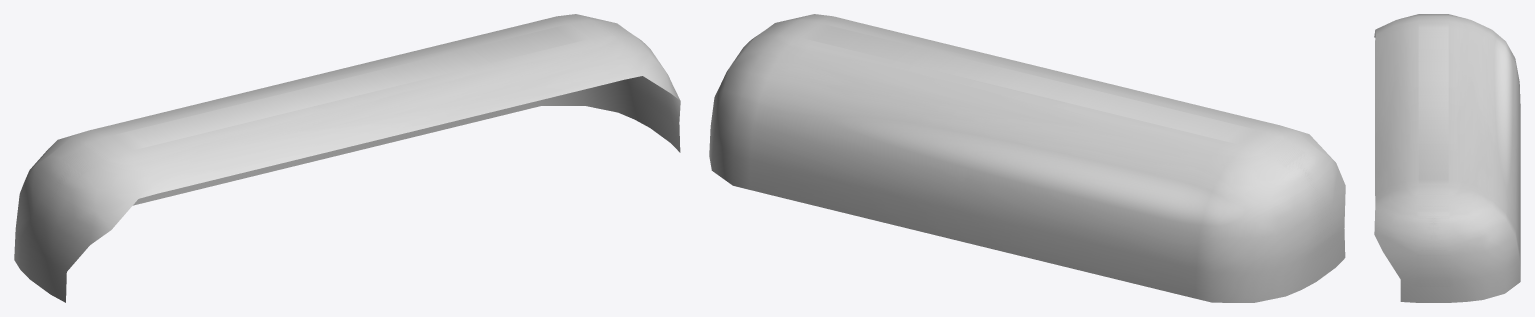
The model's file is note_top_od.obj.
3 renders of one model, left to right at view 1: azimuth 30°, elevation 25°; view 2: azimuth 150°, elevation 25°; view 3: azimuth 270°, elevation 25°, orthographic. The views are drawn at different scales.
Parts seen in each view (by area): view 1: note_top; view 2: note_top; view 3: note_top.
Boxes of the visible parts, x1=… form: note_top: x1=14, y1=14, x2=680, y2=302; note_top: x1=709, y1=14, x2=1345, y2=302; note_top: x1=1374, y1=14, x2=1520, y2=302.
Bounding box in the file's own units: 0.7458 × 0.1424 × 0.2104.
1 material, 1 textured.
